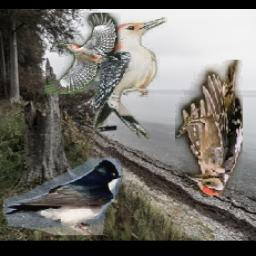Swallow: (3, 159, 121, 236)
Woodpecker: (176, 60, 244, 195), (93, 18, 168, 140), (45, 13, 122, 94)
